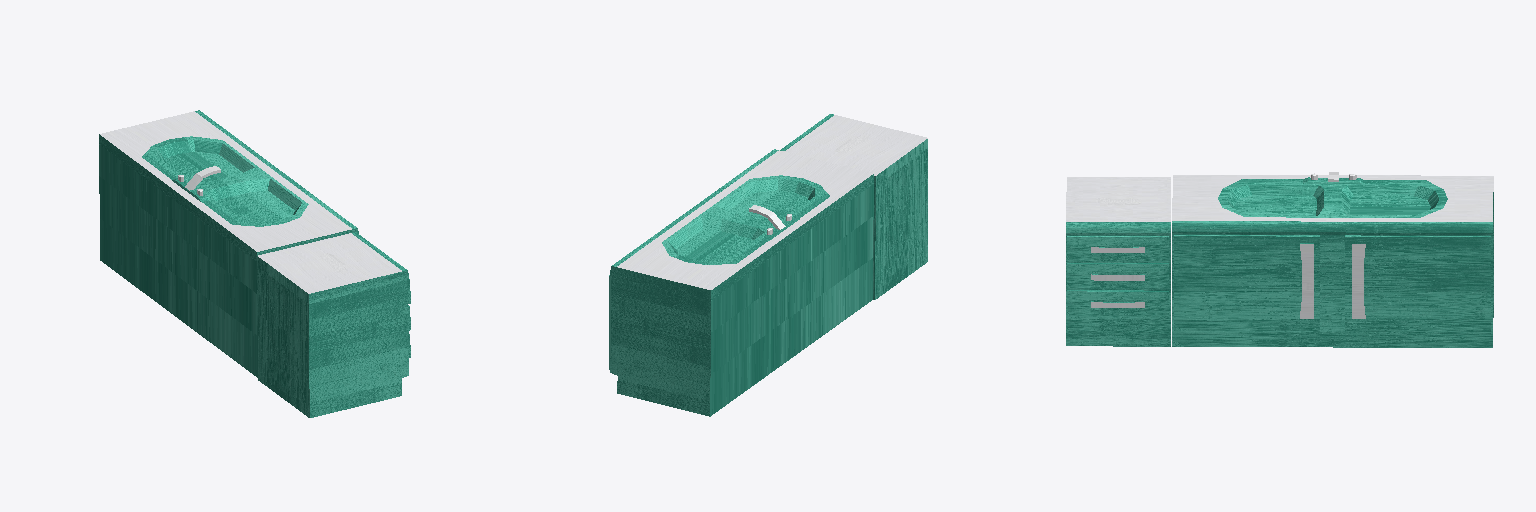
The picture shows the model from 3 angles: view 1: azimuth 30°, elevation 25°; view 2: azimuth 150°, elevation 25°; view 3: azimuth 270°, elevation 25°; orthographic projection.
Parts seen in each view (by area): view 1: Tarja:sink, Tarja:caninet_3; view 2: Tarja:sink, Tarja:caninet_3; view 3: Tarja:sink, Tarja:caninet_3.
Part boxes in pixels (x1,y1,x2,y2): Tarja:sink: (99, 110, 358, 377); Tarja:caninet_3: (257, 232, 410, 417); Tarja:sink: (609, 149, 873, 416); Tarja:caninet_3: (780, 114, 927, 299); Tarja:sink: (1172, 172, 1493, 347); Tarja:caninet_3: (1066, 177, 1170, 346).
Bounding box in the file's own units: 10.17 × 12.9 × 35.
Materials: 2 (2 with a texture image).